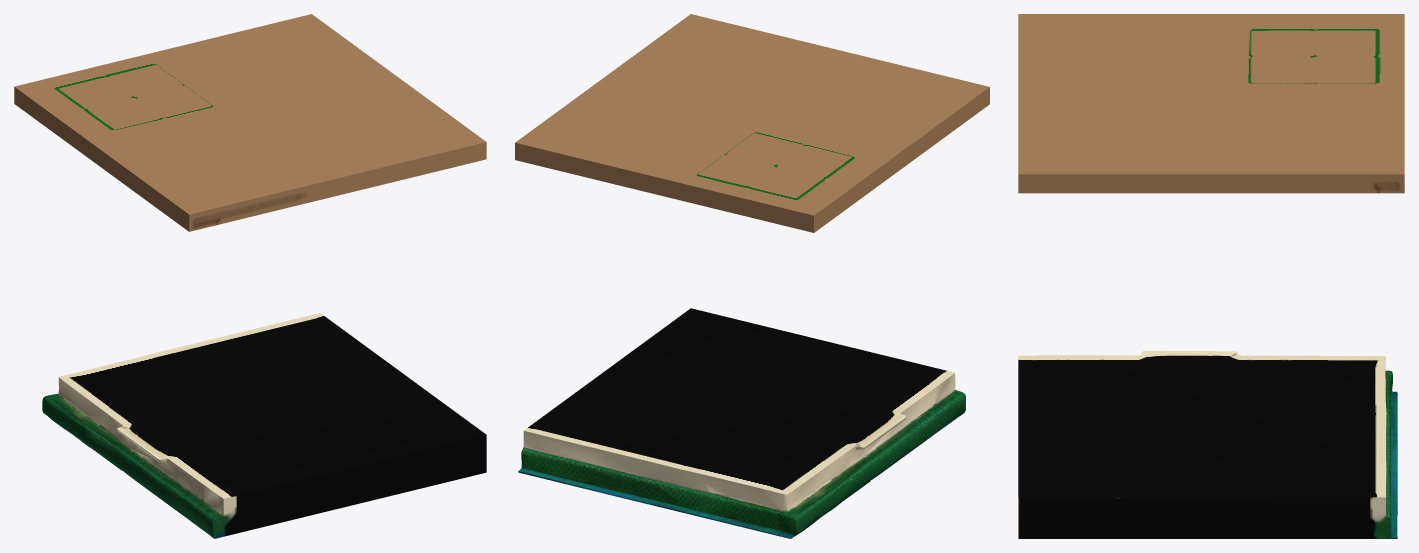
Rendered from 11-roof-back-left.fbx.
3 views of the same model, side by side, from view 1: azimuth 30°, elevation 25°; view 2: azimuth 150°, elevation 25°; view 3: azimuth 270°, elevation 25° (orthographic). The views are drawn at different scales.
Visible parts, largest first — view 1: roof-back-left; view 2: roof-back-left; view 3: roof-back-left.
Part boxes in pixels (box(x1,y1,x2,y2)): roof-back-left: box(14, 14, 486, 538); roof-back-left: box(515, 14, 989, 538); roof-back-left: box(1018, 14, 1404, 538).
Bounding box in the file's own units: 5403 × 5736 × 5503.
1 material, 1 textured.
